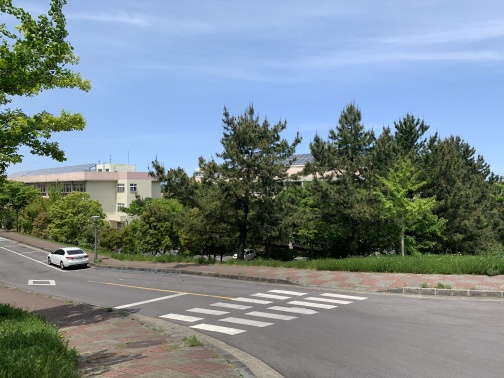College Of Education: (23, 155, 171, 224)
